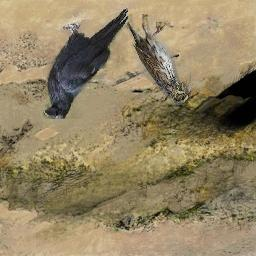Crow: (44, 7, 129, 119)
Sparrow: (123, 15, 192, 106)
